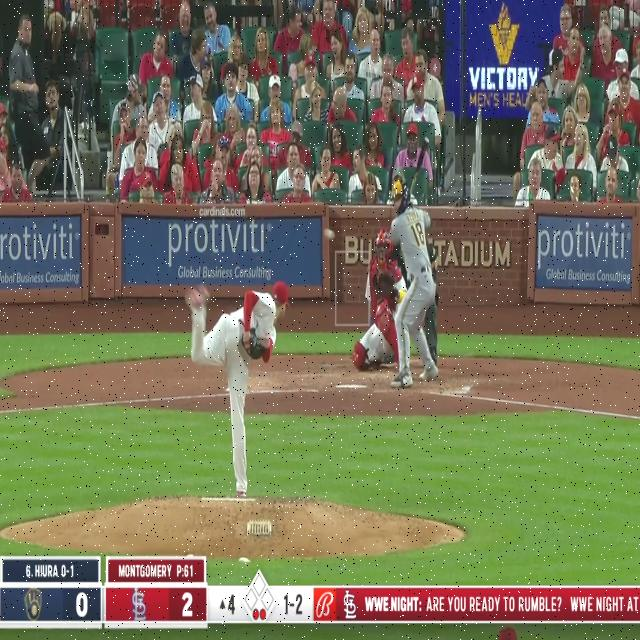baseball: (324, 226, 336, 242)
